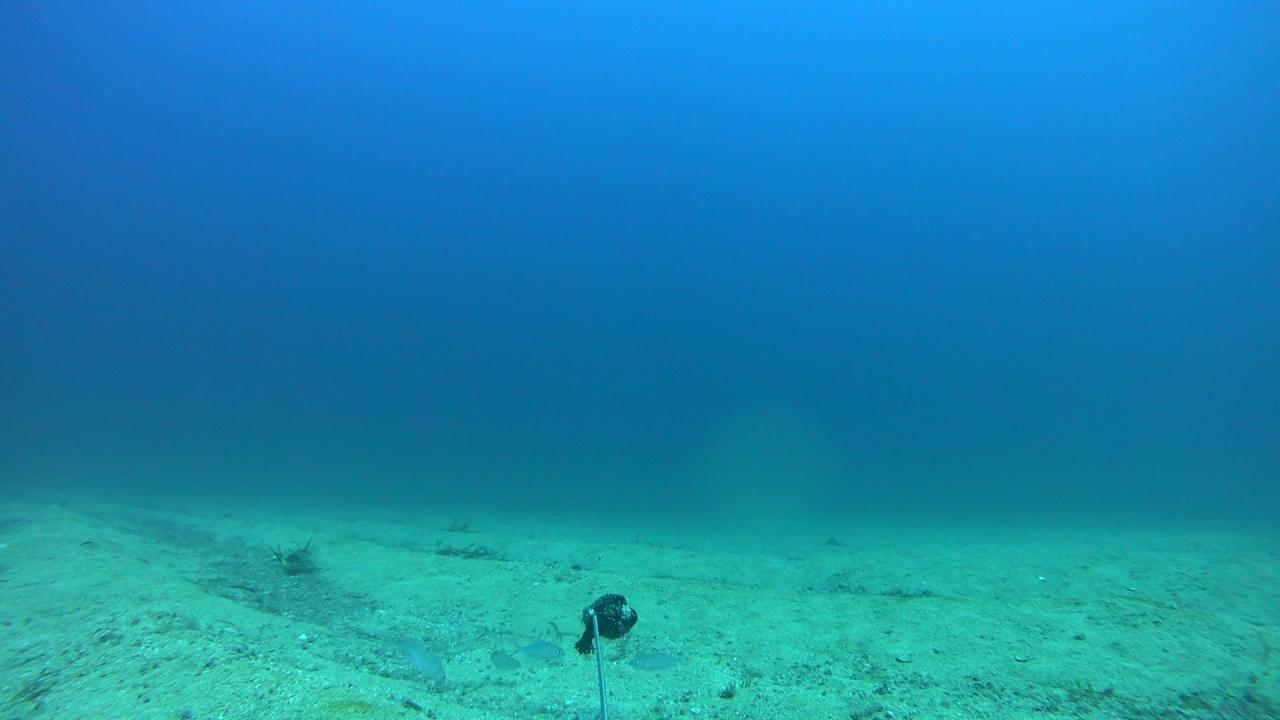pagellus: (377, 638, 446, 680), (512, 640, 564, 664), (625, 650, 684, 670), (486, 645, 521, 671)
